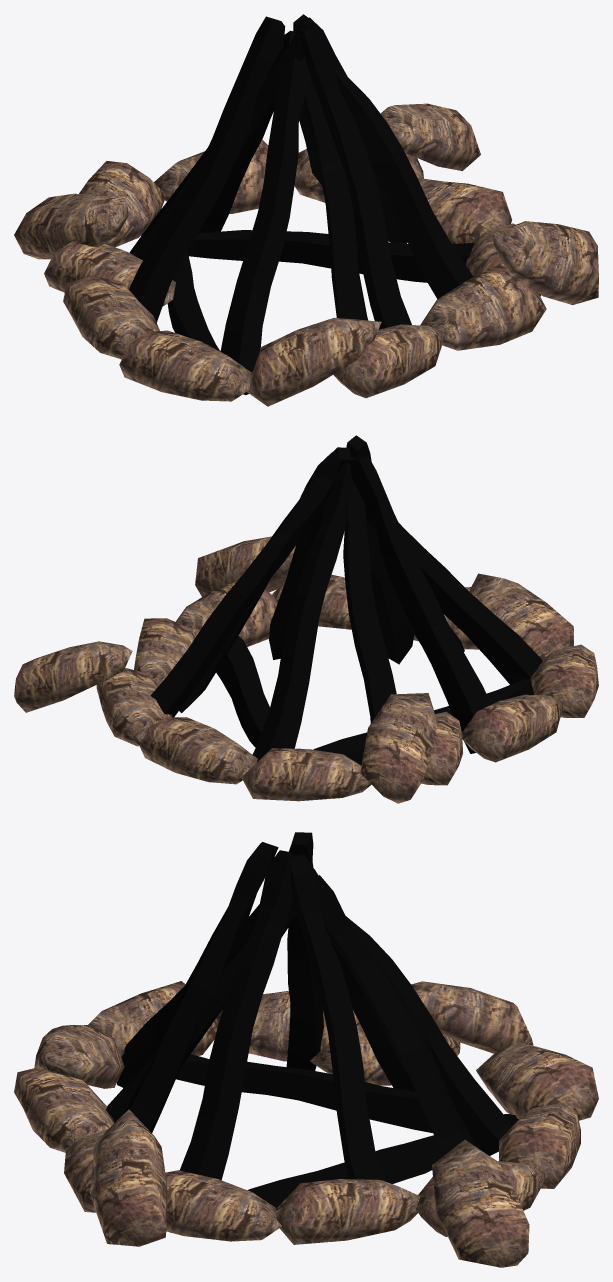
The model's file is feu de camp.fbx.
3 views of the same model, one above another, from view 1: azimuth 30°, elevation 25°; view 2: azimuth 150°, elevation 25°; view 3: azimuth 270°, elevation 25° (orthographic). The views are drawn at different scales.
Parts seen in each view (by area): view 1: pCube6, pCube3, pCube4, pCube5, cube5, cube3, cube13, cube2, pCube9, cube11, cube1, cube4 (+13 smaller); view 2: pCube3, pCube2, pCube8, cube11, pCube7, pCube6, cube10, cube9, cube12, cube1, cube3, cube8 (+12 smaller); view 3: pCube5, pCube1, cube12, pCube4, cube13, pCube8, cube7, cube10, cube6, pCube11, pCube2, cube4 (+13 smaller).
Boxes of the visible parts, x1,y1,x2,y2 form: pCube6: (220,56,310,394); pCube3: (128,16,285,322); pCube4: (298,23,411,329); pCube5: (294,17,473,299); cube5: (420,265,546,350); cube3: (247,317,381,406); cube13: (492,221,598,304); cube2: (119,330,251,401); pCube9: (303,76,368,320); cube11: (14,193,128,259); cube1: (63,276,159,359); cube4: (333,324,443,398); pCube3: (349,456,491,753); pCube2: (252,464,354,762); pCube8: (150,475,335,717); cube11: (360,693,437,803); pCube7: (342,457,396,723); pCube6: (365,504,542,684); cube10: (241,748,371,801); cube9: (139,717,257,784); cube12: (14,641,132,712); cube1: (461,694,562,762); cube3: (469,573,573,660); cube8: (96,668,172,746); pCube5: (179,850,298,1180); pCube1: (289,854,384,1181); cube12: (432,1139,529,1267); pCube4: (124,842,278,1132); cube13: (90,1109,167,1246); pCube8: (316,875,477,1155); cube7: (276,1179,419,1244); cube10: (476,1041,598,1120); cube6: (165,1170,281,1241); pCube11: (176,1054,432,1132); pCube2: (312,867,511,1155); cube4: (14,1066,114,1152).
Size of the model in its own units: 5.65 by 3.32 by 5.45.
